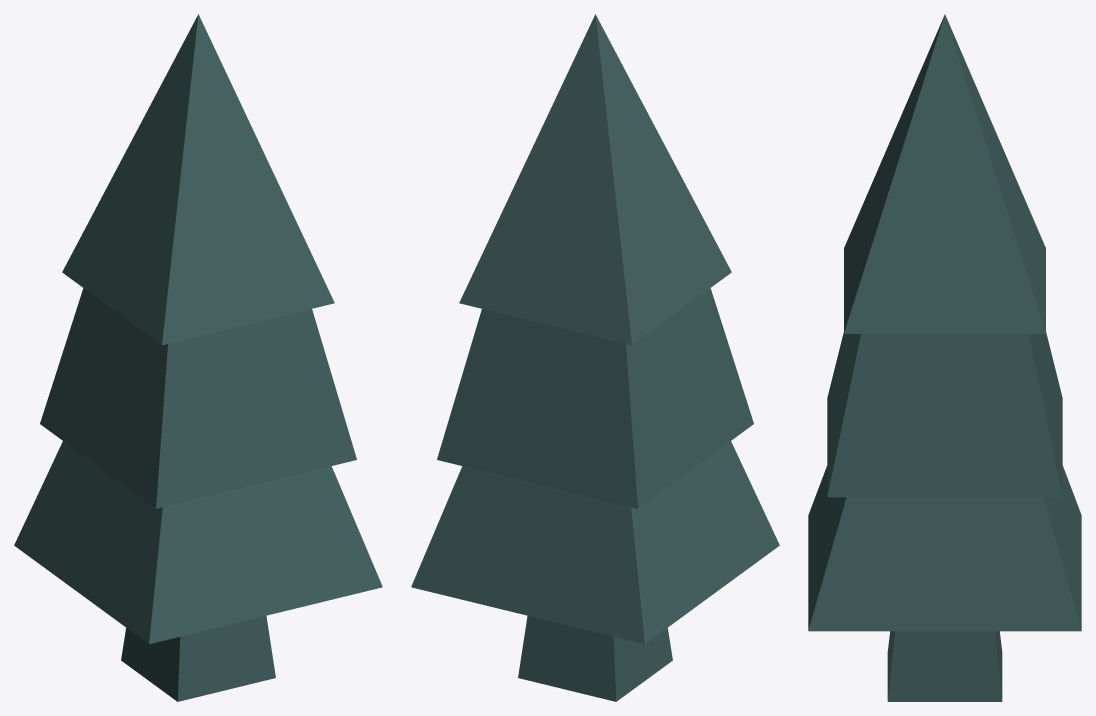
File: tree_01.glb
The picture shows the model from 3 angles, left to right: view 1: azimuth 30°, elevation 25°; view 2: azimuth 150°, elevation 25°; view 3: azimuth 270°, elevation 25°; orthographic projection.
Parts seen in each view (by area): view 1: Mesh1 Tree Model; view 2: Mesh1 Tree Model; view 3: Mesh1 Tree Model.
Part boxes in pixels (x1,y1,x2,y2): Mesh1 Tree Model: (14, 14, 382, 701); Mesh1 Tree Model: (411, 14, 779, 701); Mesh1 Tree Model: (808, 14, 1081, 701).
Bounding box in the file's own units: 1.18 × 3.16 × 1.18.
